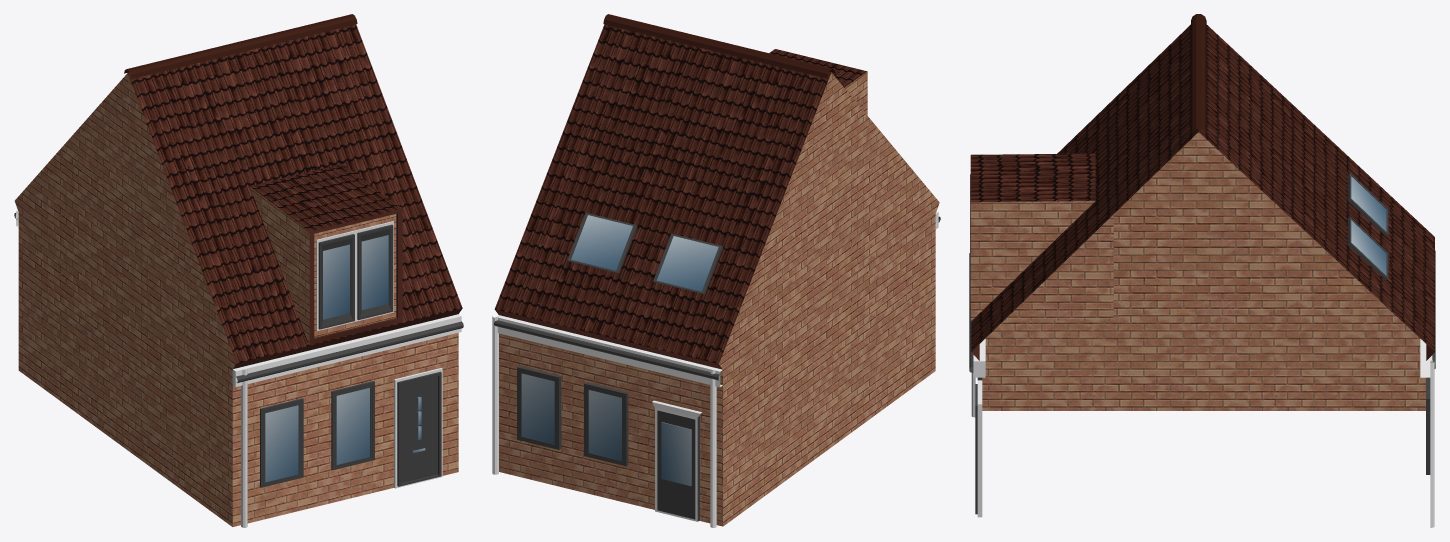
File: Buorkerij_23.fbx
3 views of the same model, side by side, from view 1: azimuth 30°, elevation 25°; view 2: azimuth 150°, elevation 25°; view 3: azimuth 270°, elevation 25° (orthographic). The views are drawn at different scales.
Parts seen in each view (by area): view 1: Buorkerij_23; view 2: Buorkerij_23; view 3: Buorkerij_23.
Boxes of the visible parts, x1,y1,x2,y2 form: Buorkerij_23: [14, 14, 463, 527]; Buorkerij_23: [492, 14, 940, 527]; Buorkerij_23: [969, 14, 1435, 527].
Bounding box in the file's own units: 5.57 × 8.81 × 9.38.
